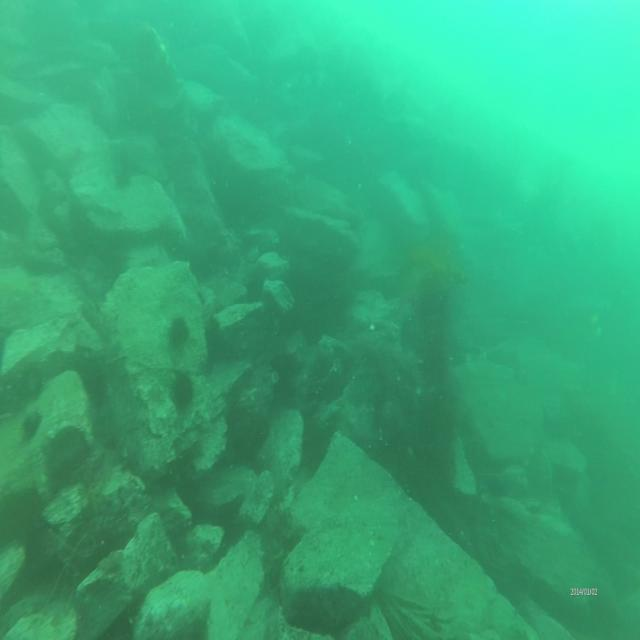echinus: (164, 310, 193, 354), (169, 372, 195, 413), (16, 407, 44, 442), (110, 157, 133, 190)
holothurian: (75, 287, 115, 347)
